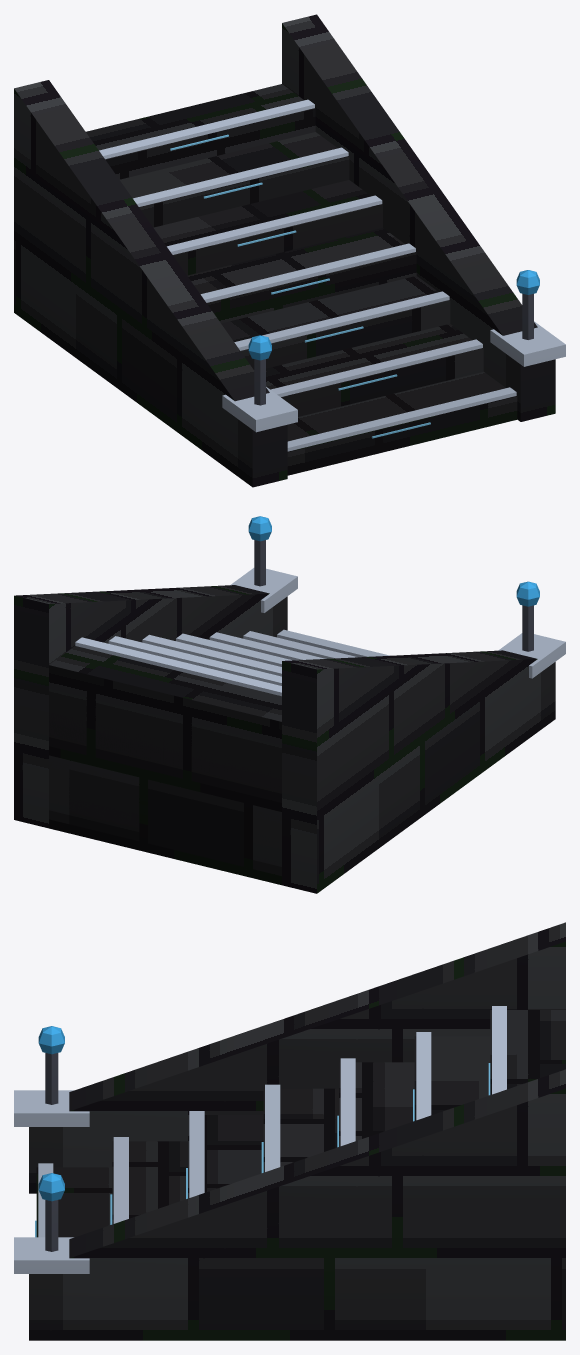
The model's file is frost_stair.glb.
3 views of the same model, one above another, from view 1: azimuth 30°, elevation 25°; view 2: azimuth 150°, elevation 25°; view 3: azimuth 270°, elevation 25° (orthographic). The views are drawn at different scales.
Visible parts, largest first — view 1: frost_stair; view 2: frost_stair; view 3: frost_stair.
Boxes of the visible parts, x1=… form: frost_stair: x1=14, y1=14, x2=565, y2=487; frost_stair: x1=14, y1=516, x2=565, y2=893; frost_stair: x1=14, y1=922, x2=565, y2=1340.
Size of the model in its own units: 2.66 by 1.84 by 3.65.
3 materials, 1 textured.
